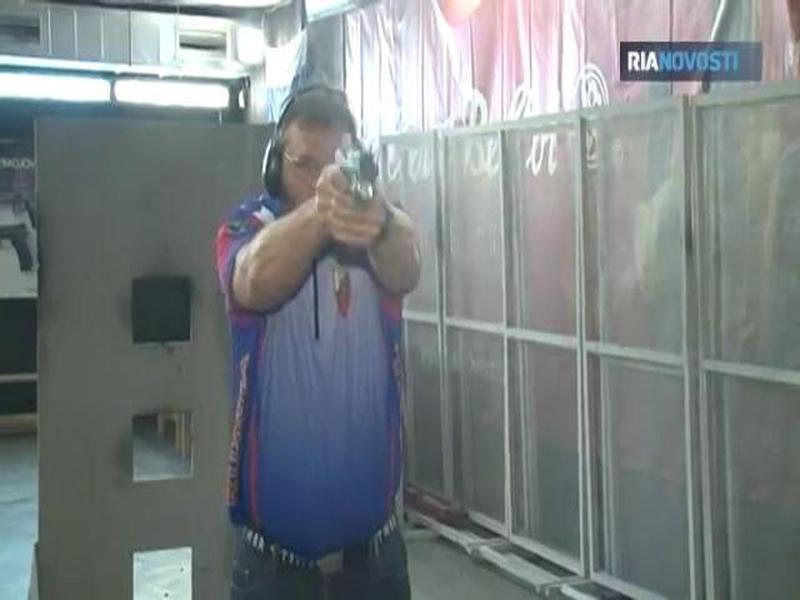Pistola: (312, 128, 388, 236)
